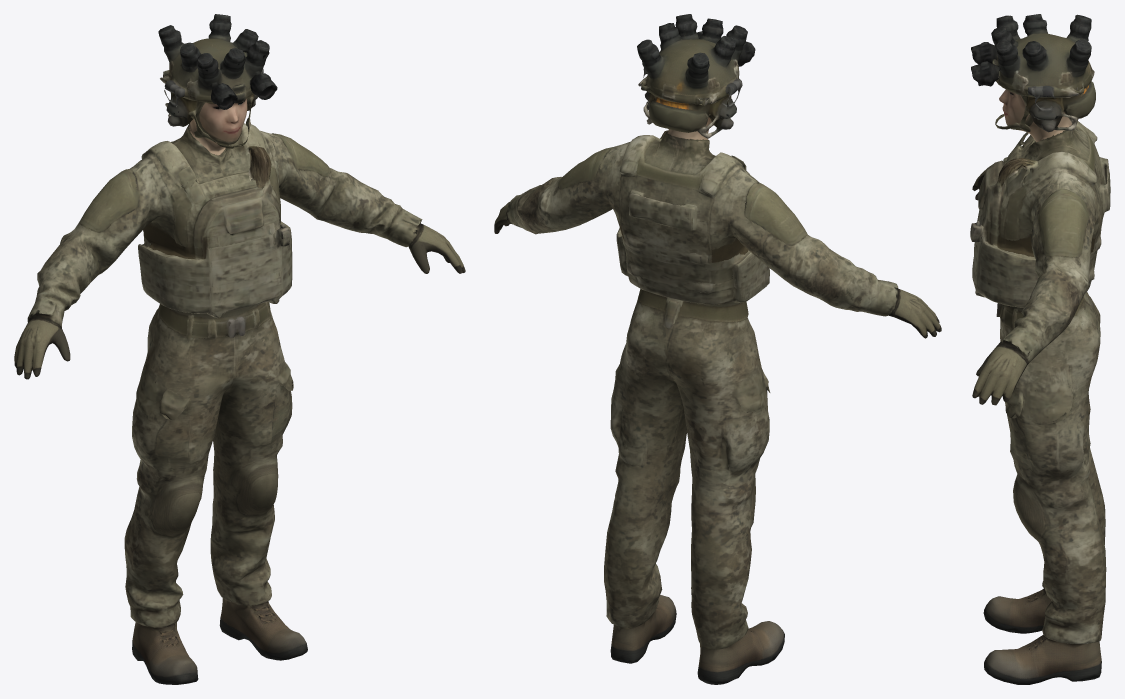
Rendered from sol_ally2.glb.
The picture shows the model from 3 angles, left to right: view 1: azimuth 30°, elevation 25°; view 2: azimuth 150°, elevation 25°; view 3: azimuth 270°, elevation 25°; orthographic projection.
Bounding box in the file's own units: 0.7422 × 1 × 0.2037.
1 material, 1 textured.
